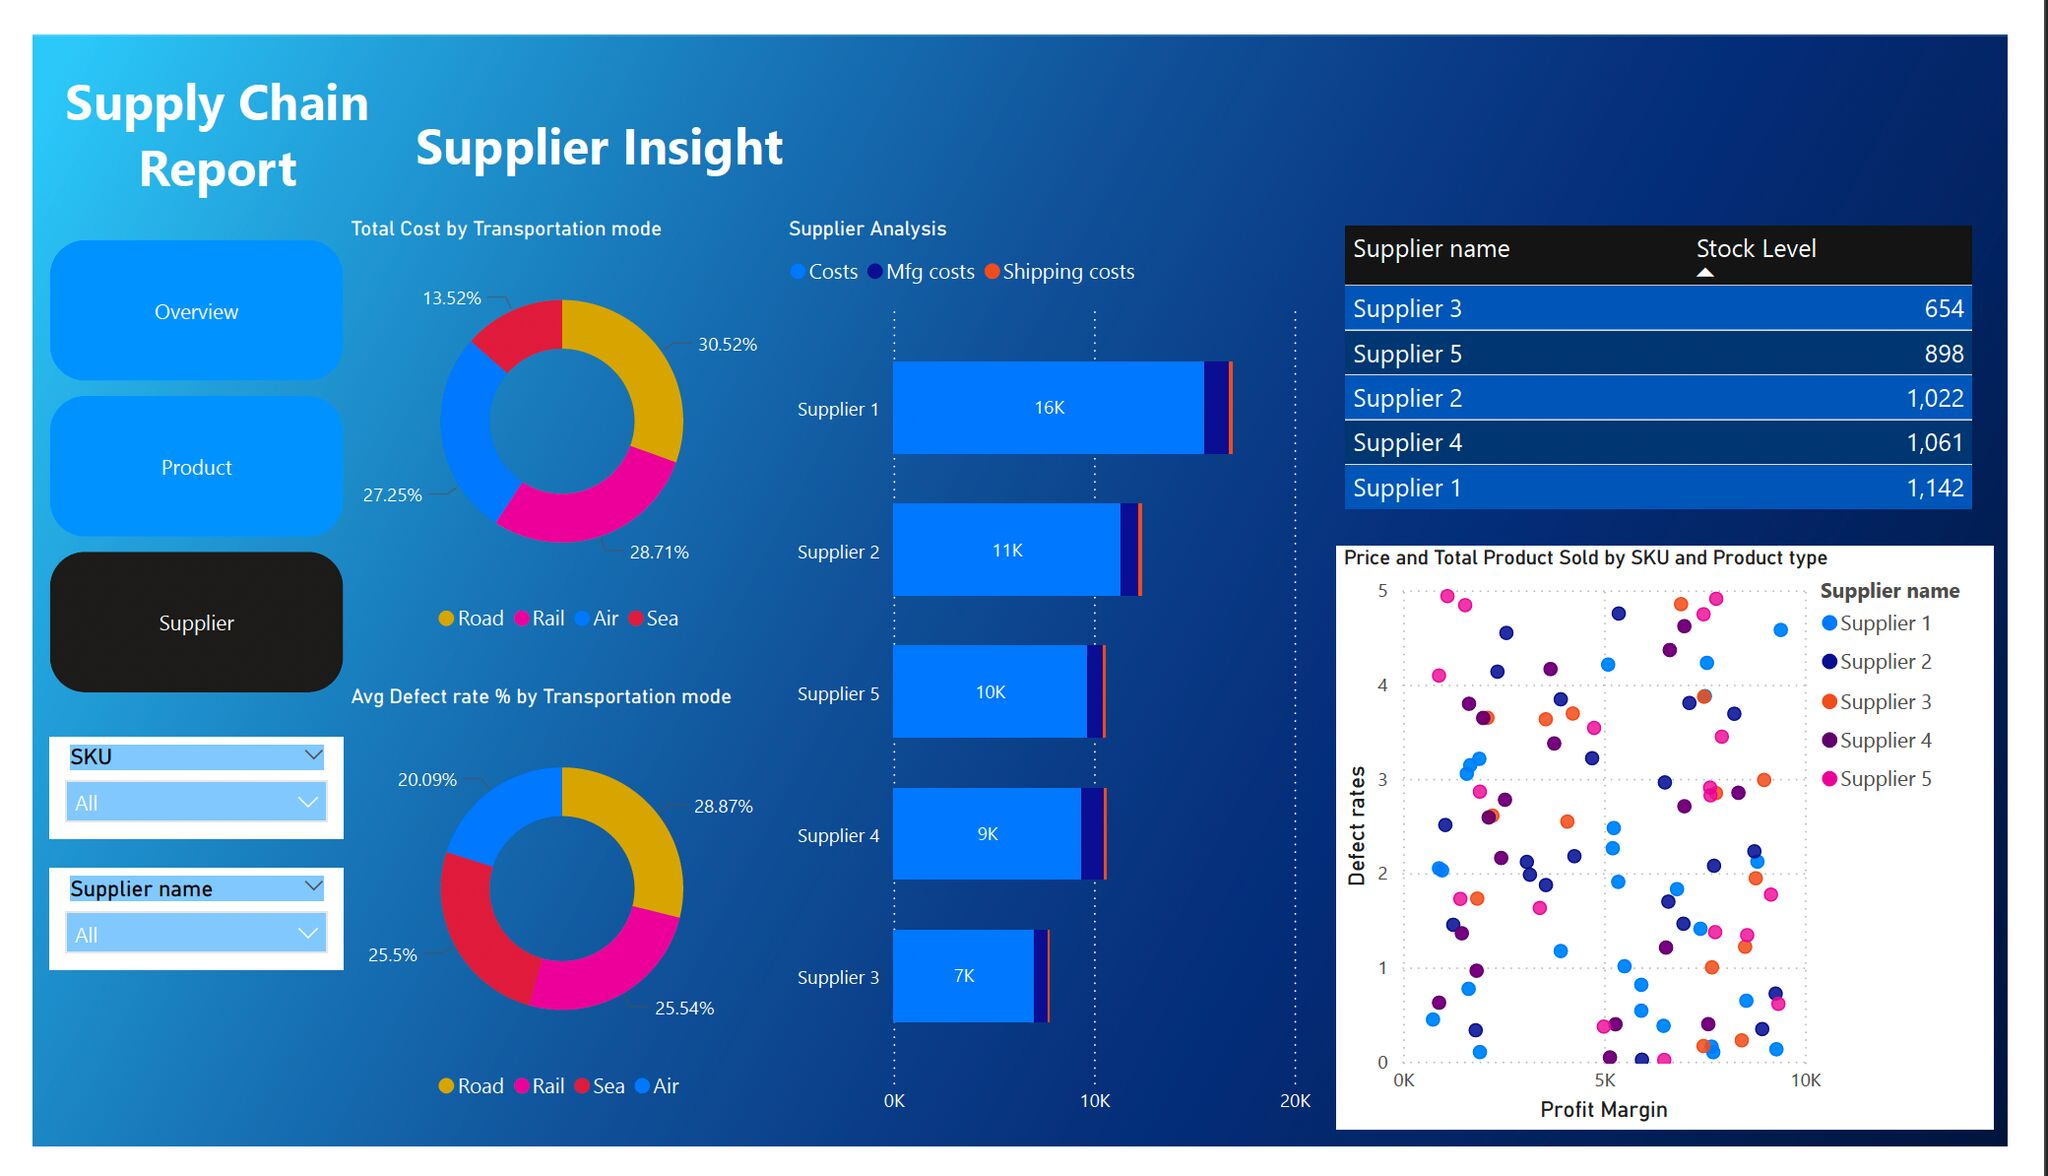

Layout of this report page (visuals, bound fields, positions):
{"tool":"powerbi","page":{"name":"Supplier","canvas":[1280,720],"ordinal":2},"visuals":[{"type":"donutChart","title":"Total Cost by Transportation mode","fields":{"Y":["Measures (2).Total Cost"],"Category":["supply_chain_data.Transportation modes"]},"box":[200.6,117.9,284.8,278.7],"z":0},{"type":"donutChart","title":"Avg Defect rate % by Transportation mode","fields":{"Y":["Measures (2).Avg Defect rate %"],"Category":["supply_chain_data.Transportation modes"]},"box":[200.6,421.1,284.8,278.7],"z":1000},{"type":"barChart","title":"Supplier Analysis","fields":{"Category":["supply_chain_data.Supplier name"],"Y":["Sum(supply_chain_data.Costs)","Sum(supply_chain_data.Mfg costs)","Sum(supply_chain_data.Shipping costs)"]},"box":[485.4,117.9,347.6,591],"z":2000},{"type":"tableEx","fields":{"Values":["supply_chain_data.Supplier name","Measures (2).Stock Level"]},"box":[845.2,119.4,418,211.3],"z":3000},{"type":"scatterChart","title":"Price and Total Product Sold by SKU and Product type","fields":{"X":["supply_chain_data.Profit Margin "],"Y":["Sum(supply_chain_data.Defect rates)"],"Series":["supply_chain_data.Supplier name"]},"box":[845.2,330.7,425.6,378.2],"z":4000},{"type":"textbox","box":[243.4,44.4,353.7,53.6],"z":5000},{"type":"pageNavigator","box":[10.7,133.2,189.9,294],"z":6000},{"type":"slicer","fields":{"Values":["supply_chain_data.SKU"]},"box":[10.7,454.7,189.9,65.8],"z":7000},{"type":"slicer","fields":{"Values":["supply_chain_data.Supplier name"]},"box":[10.7,540.5,189.9,65.8],"z":8000},{"type":"textbox","box":[10.7,15.3,217.4,99.5],"z":9000}]}

Visuals, with their boxes in screenshot pixels (x1, y1, x2, y2), scaled from the page's 1280x720 canvas onto the 2048x1176 screenshot:
"Total Cost by Transportation mode" donutChart: <box>321,193,777,648</box>
"Avg Defect rate % by Transportation mode" donutChart: <box>321,688,777,1143</box>
"Supplier Analysis" barChart: <box>777,193,1333,1158</box>
tableEx - supply_chain_data.Supplier name x Measures (2).Stock Level: <box>1352,195,2021,540</box>
"Price and Total Product Sold by SKU and Product type" scatterChart: <box>1352,540,2033,1158</box>
textbox: <box>389,73,955,160</box>
pageNavigator: <box>17,218,321,698</box>
slicer - supply_chain_data.SKU: <box>17,743,321,850</box>
slicer - supply_chain_data.Supplier name: <box>17,883,321,990</box>
textbox: <box>17,25,365,188</box>
